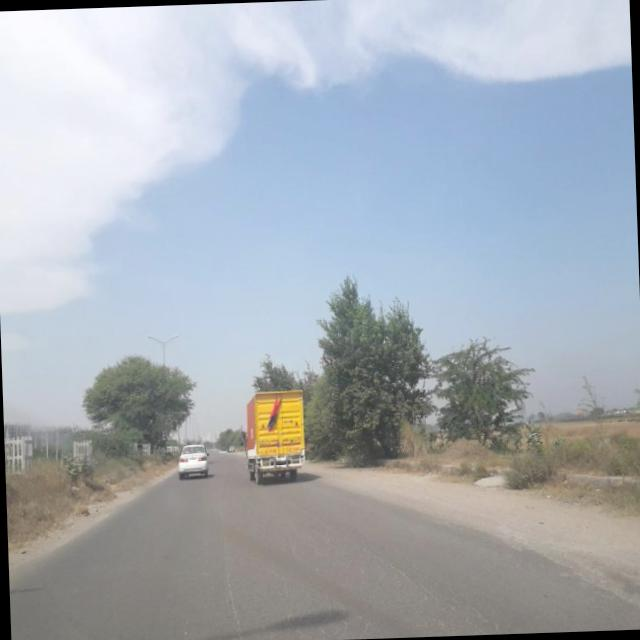crack: (332, 534, 509, 638)
pothole: (216, 508, 245, 638)
